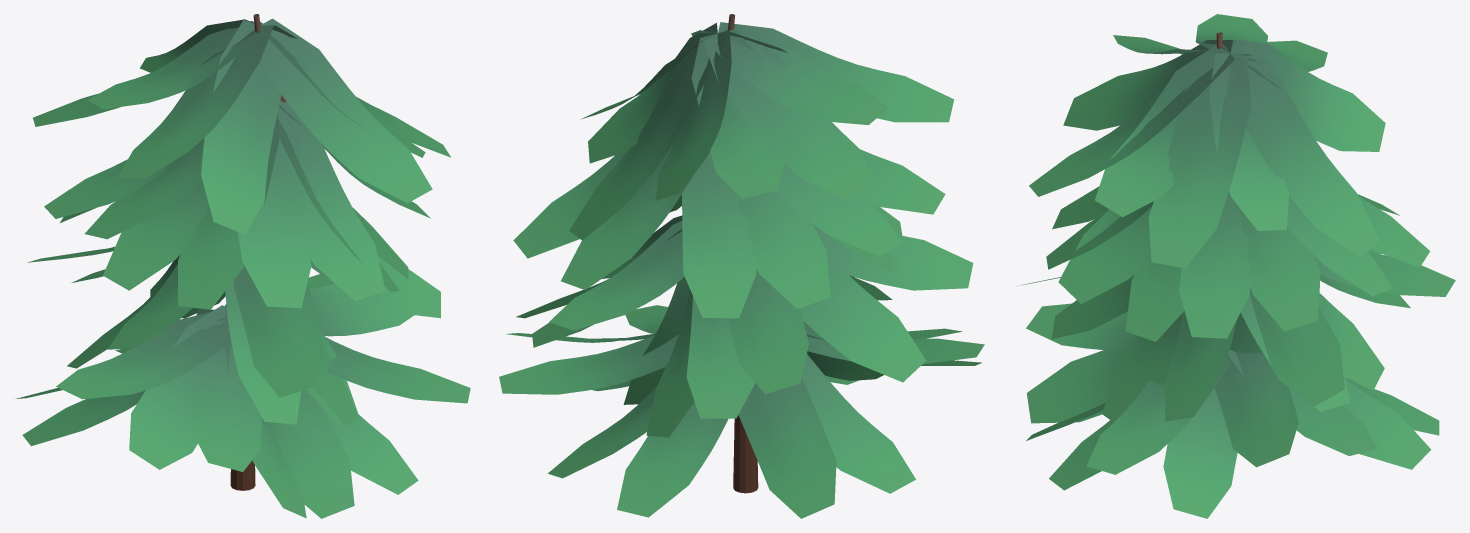
Rendered from tree02.fbx.
3 views of the same model, side by side, from view 1: azimuth 30°, elevation 25°; view 2: azimuth 150°, elevation 25°; view 3: azimuth 270°, elevation 25° (orthographic). The views are drawn at different scales.
Parts seen in each view (by area): view 1: pPlane110, polySurface139; view 2: pPlane110, polySurface139; view 3: pPlane110.
Boxes of the visible parts, <box> form: pPlane110: <box>16,18,470,518</box>; polySurface139: <box>230,14,286,490</box>; pPlane110: <box>499,22,984,518</box>; polySurface139: <box>727,14,758,493</box>; pPlane110: <box>1016,14,1455,518</box>.
Bounding box in the file's own units: 108 × 116 × 102.
